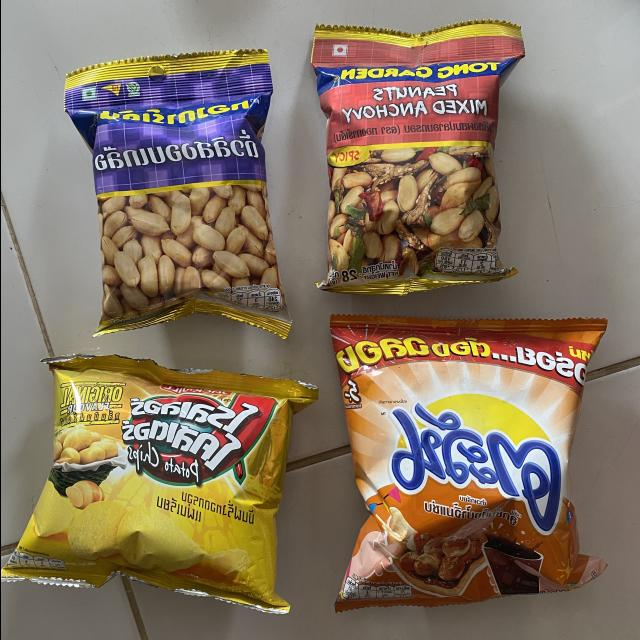plastik: (329, 315, 606, 611), (0, 356, 316, 612), (64, 49, 290, 337), (311, 21, 524, 294)
